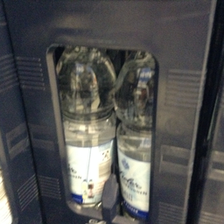water: (55, 46, 115, 208), (112, 50, 155, 219)
